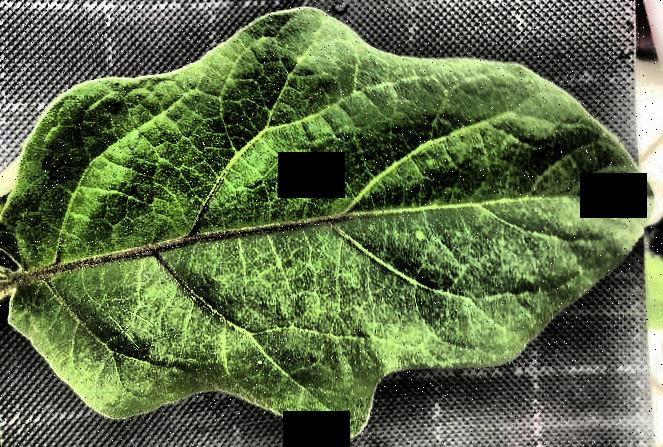HEALTHY: (1, 0, 663, 447)
